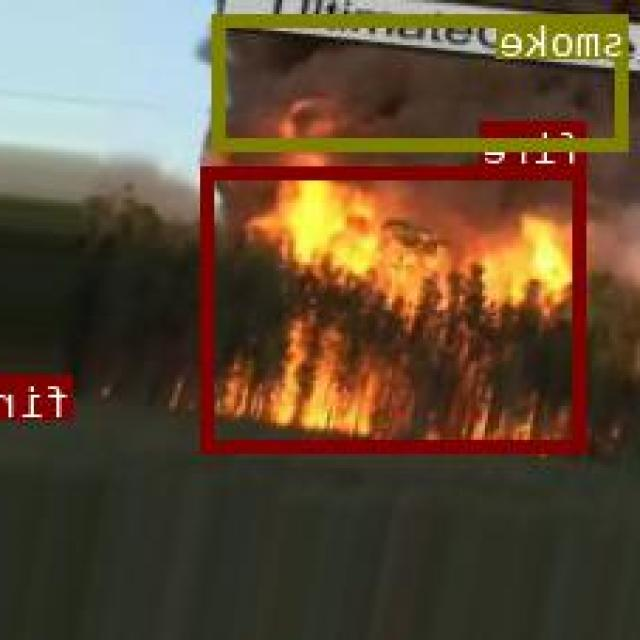fire: (204, 164, 587, 451), (6, 375, 75, 404)
smoke: (217, 13, 631, 149)
